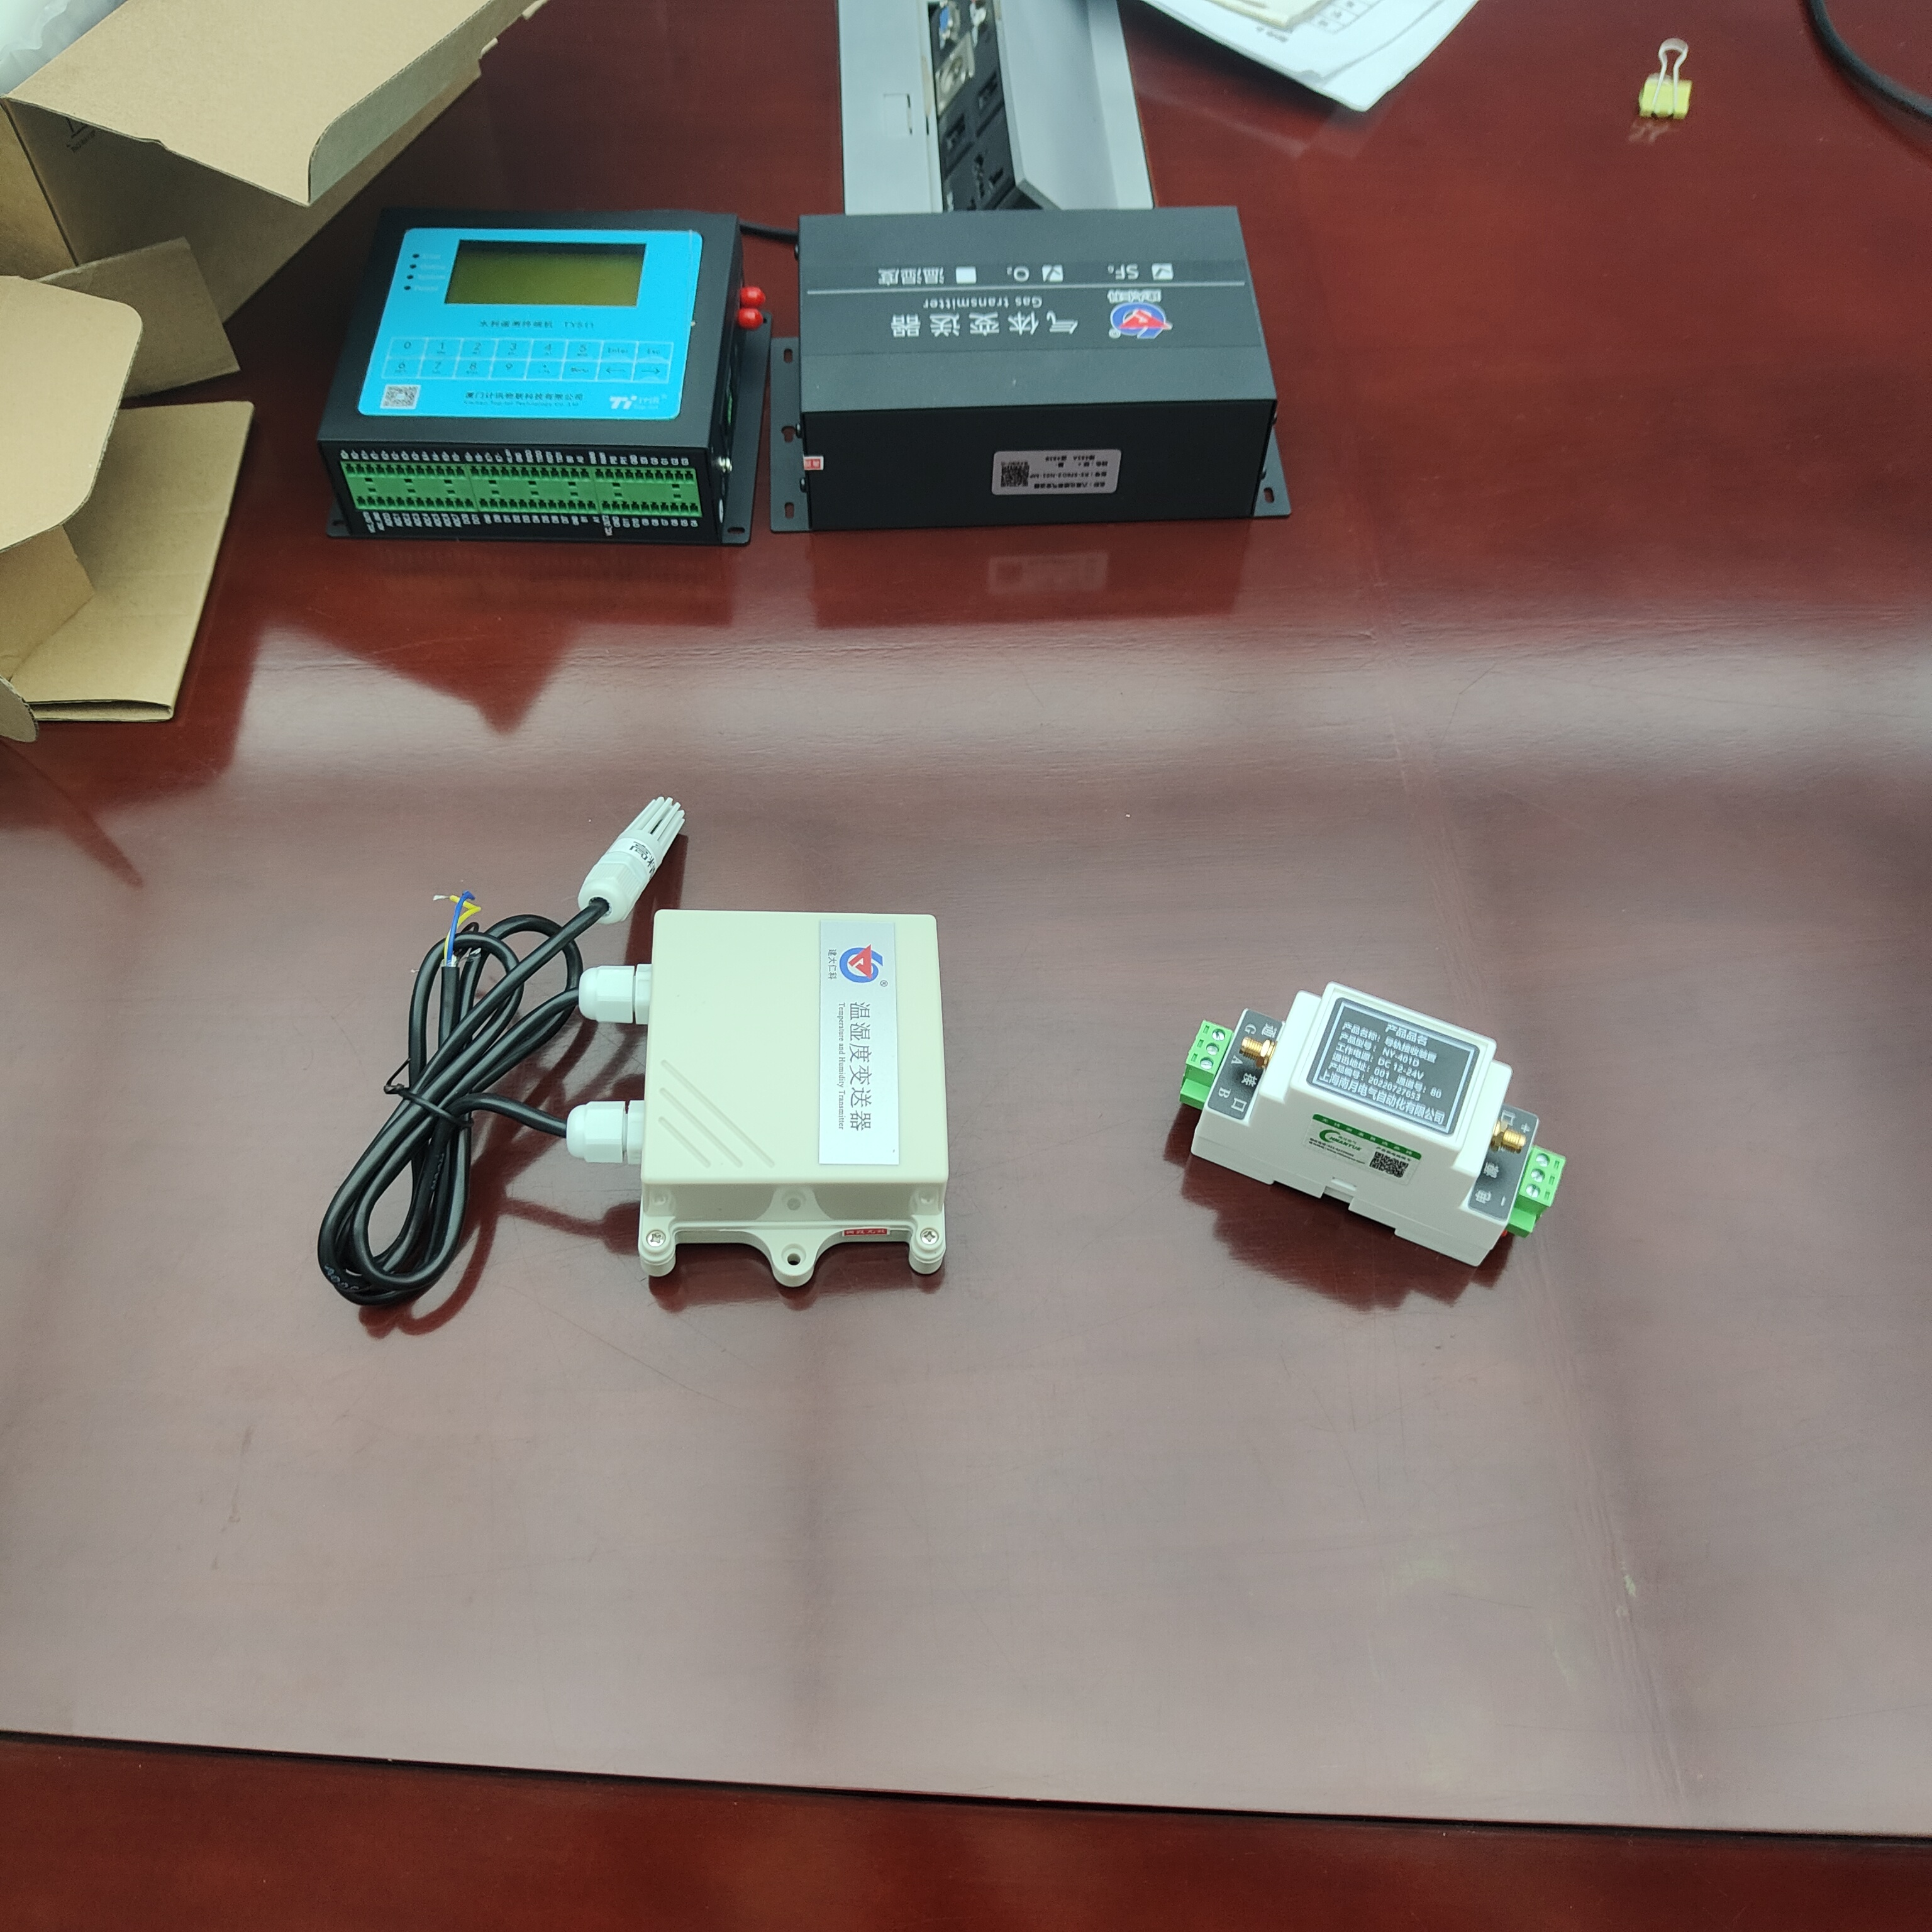dgjs: (1155, 938, 1587, 1309)
qtbsq: (773, 195, 1299, 552)
slyczd: (306, 186, 778, 561)
wsdbsq: (529, 839, 987, 1318)
